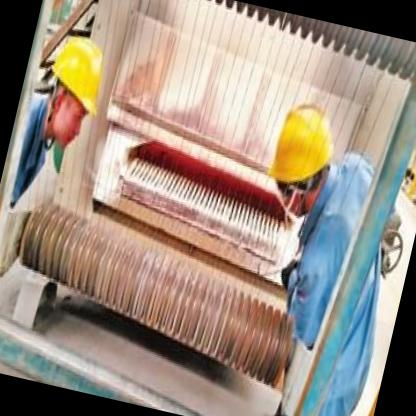helmet: (250, 83, 345, 220), (28, 22, 120, 160)
